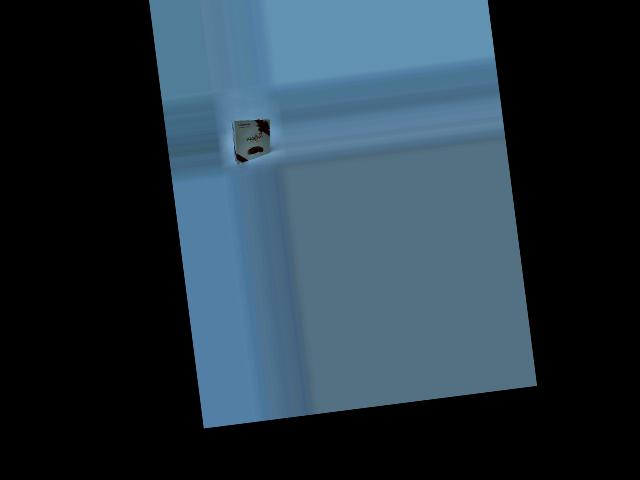chocolate: (222, 117, 275, 167)
